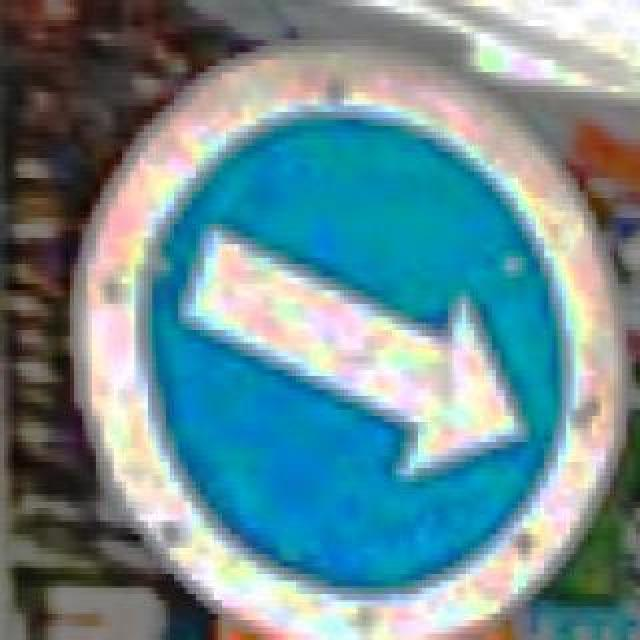keep right: (58, 26, 632, 634)
